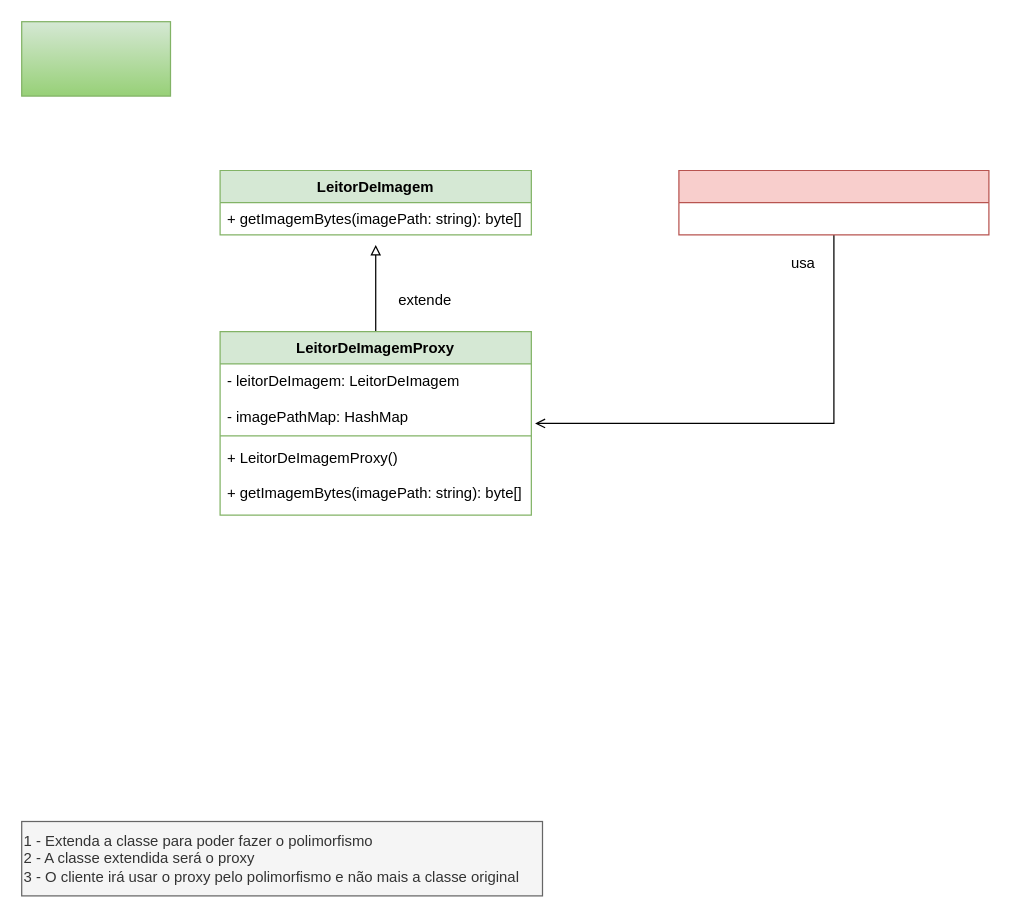
The diagram is 1011 pixels wide and 918 high, and some of its shapes have lost their labels. The centre of each missing label's shape, as x and y in pixels:
"Cliente" goes at point 833,202.
"Proxy" goes at point 95,58.
